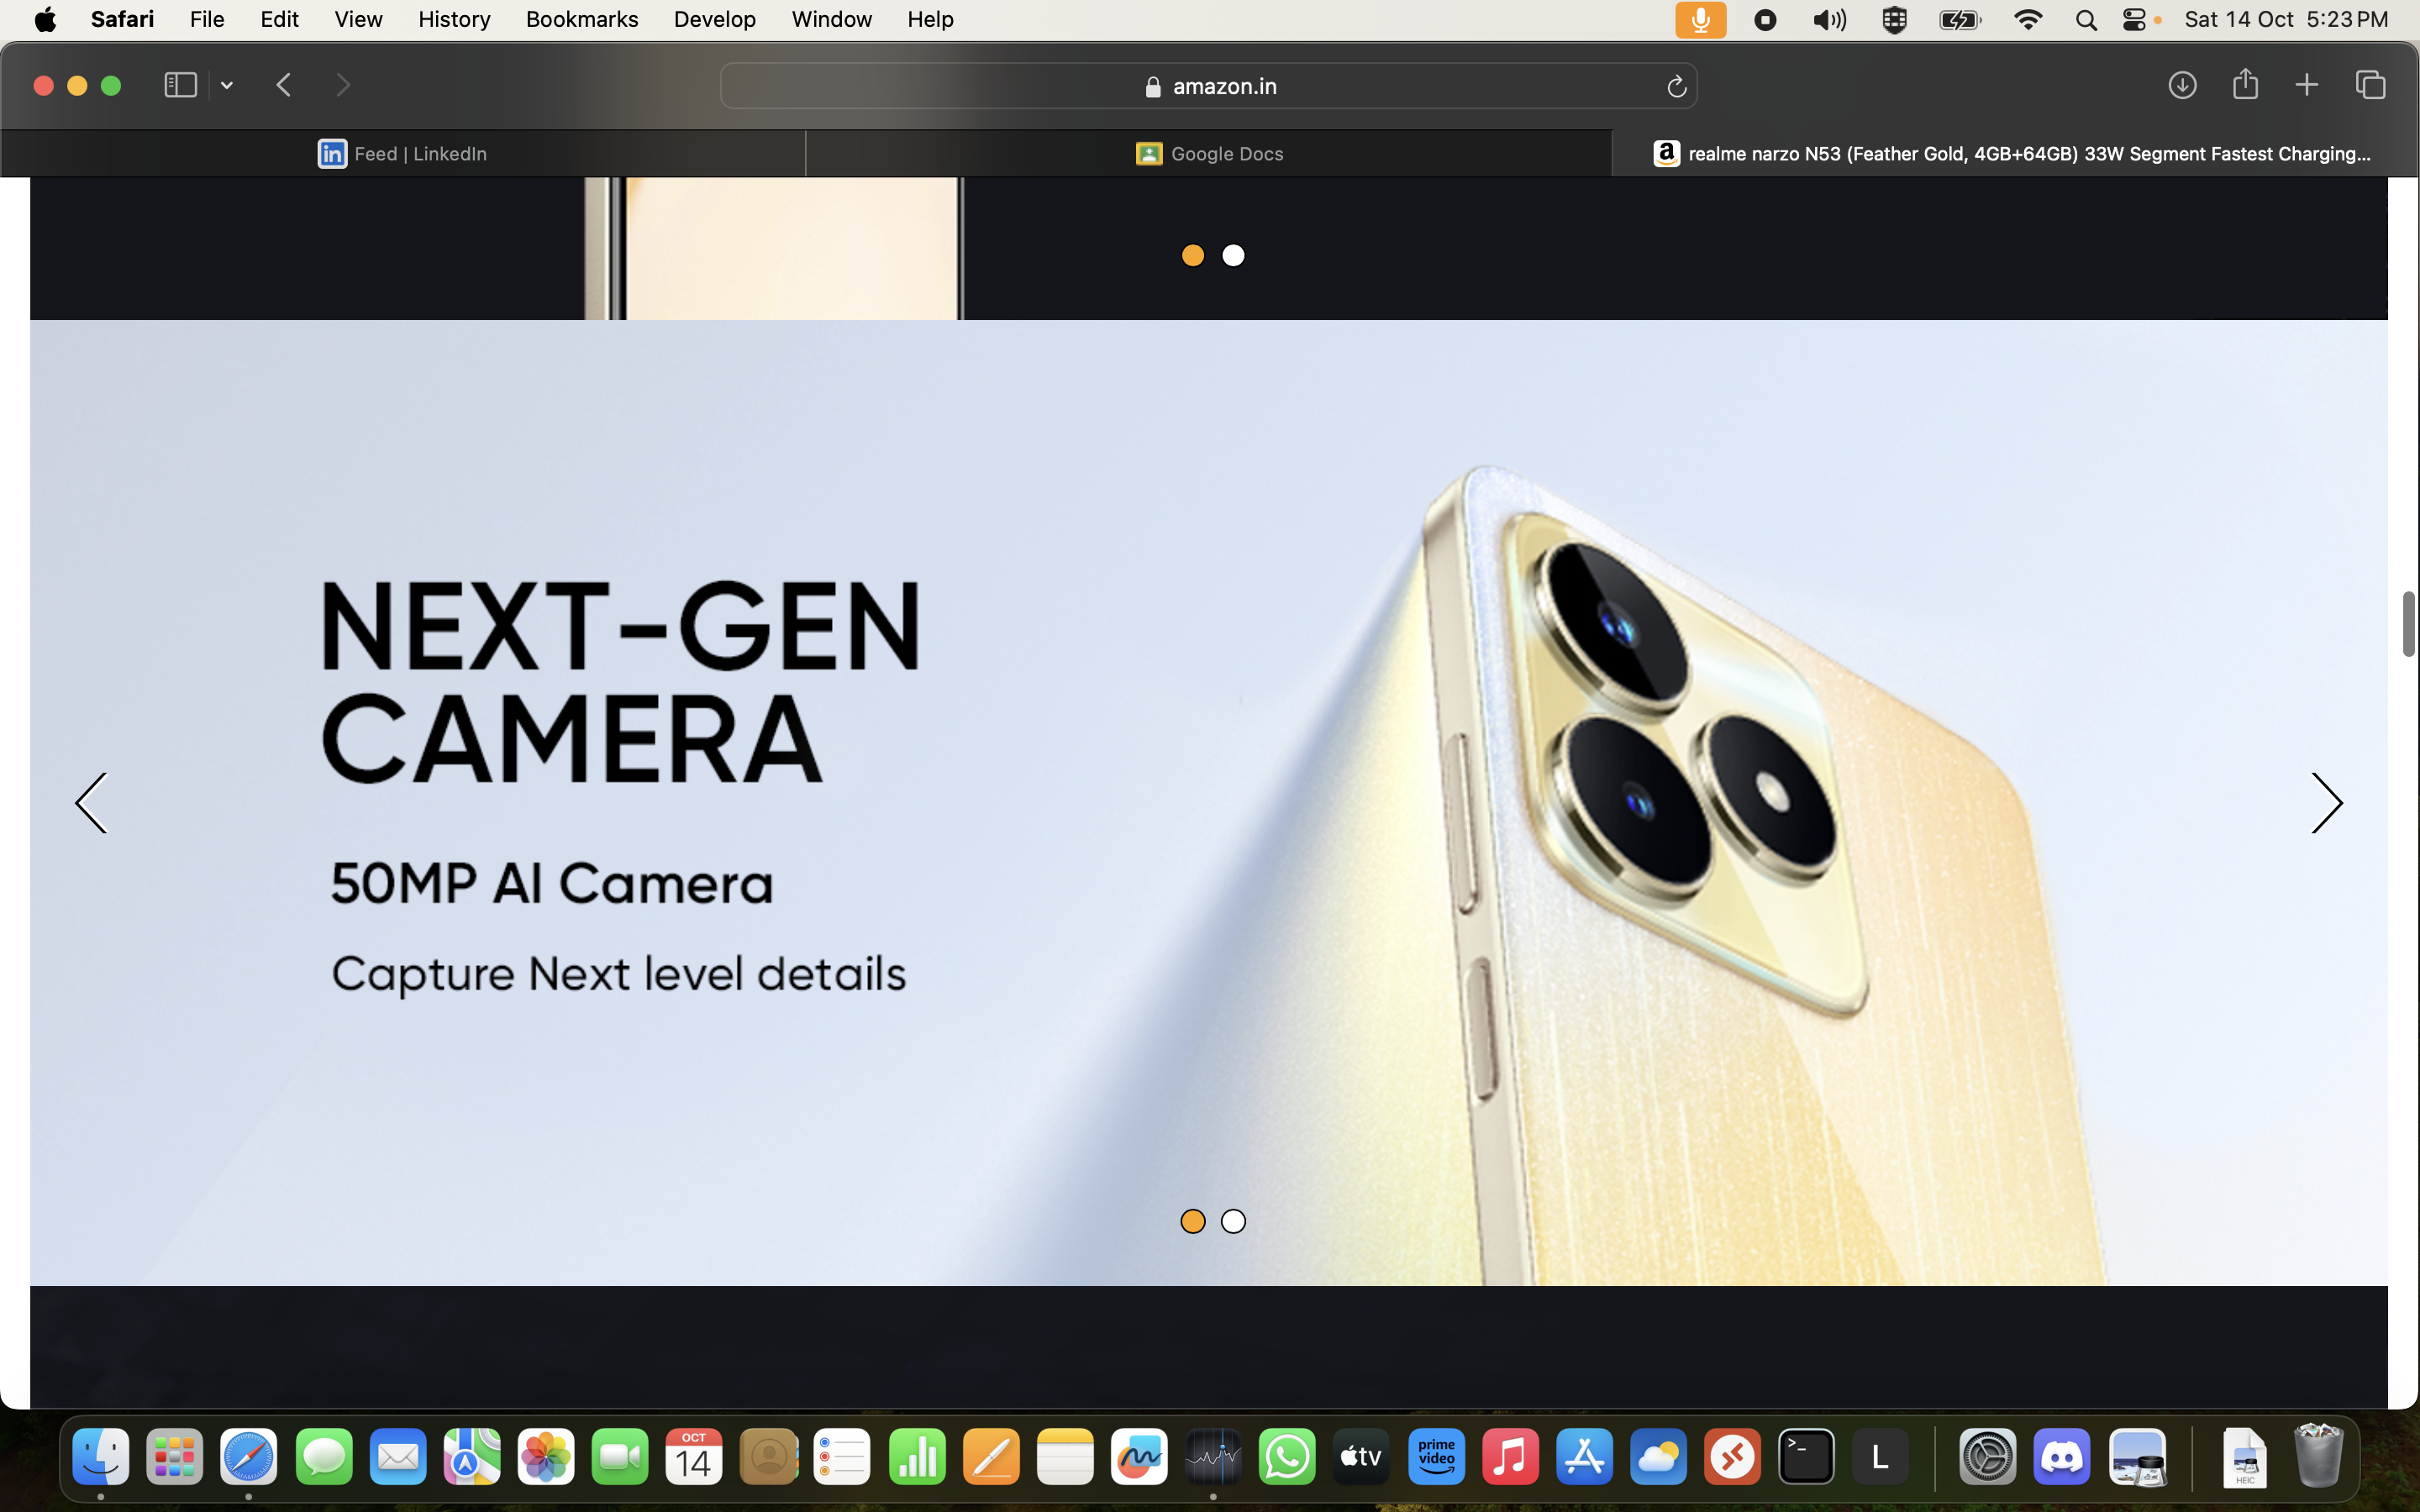Image: (1389, 486, 2153, 1326)
Paragraph: (303, 544, 936, 796), (307, 837, 804, 928), (318, 947, 932, 1001)
